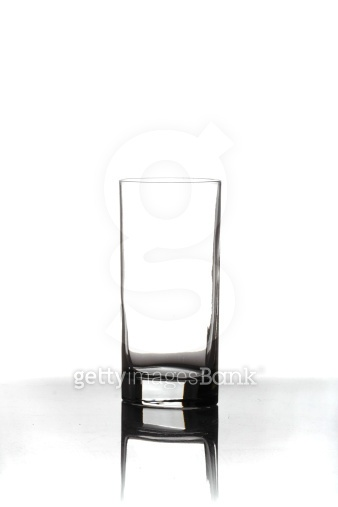glass of water: (114, 171, 229, 451)
